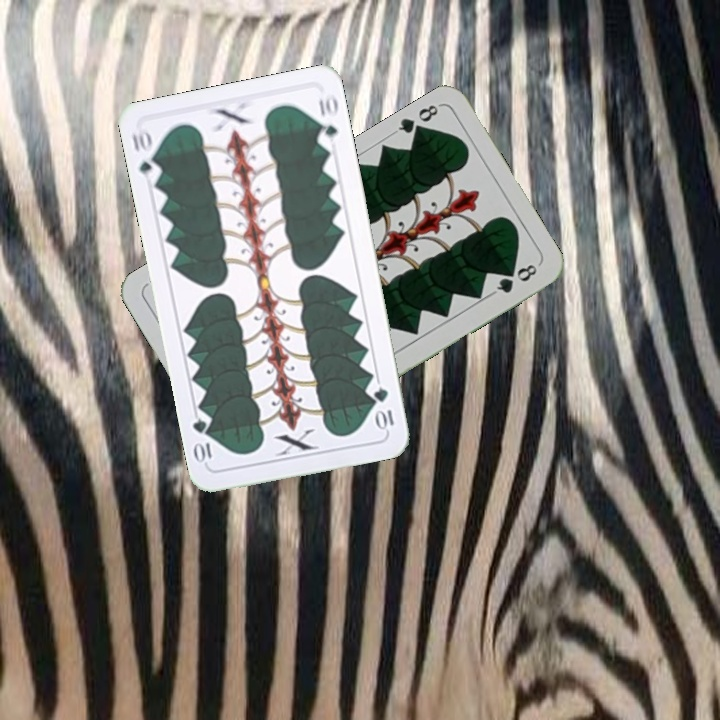G10: (128, 125, 163, 183), (369, 383, 397, 433)
G8: (389, 100, 442, 141)
